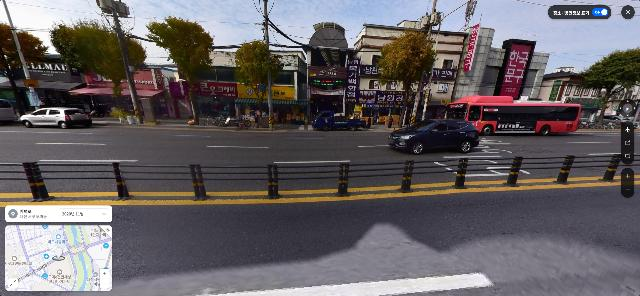other: (49, 19, 145, 122), (147, 16, 212, 124), (378, 32, 436, 129), (580, 46, 639, 127), (234, 39, 284, 128), (1, 23, 39, 110)
